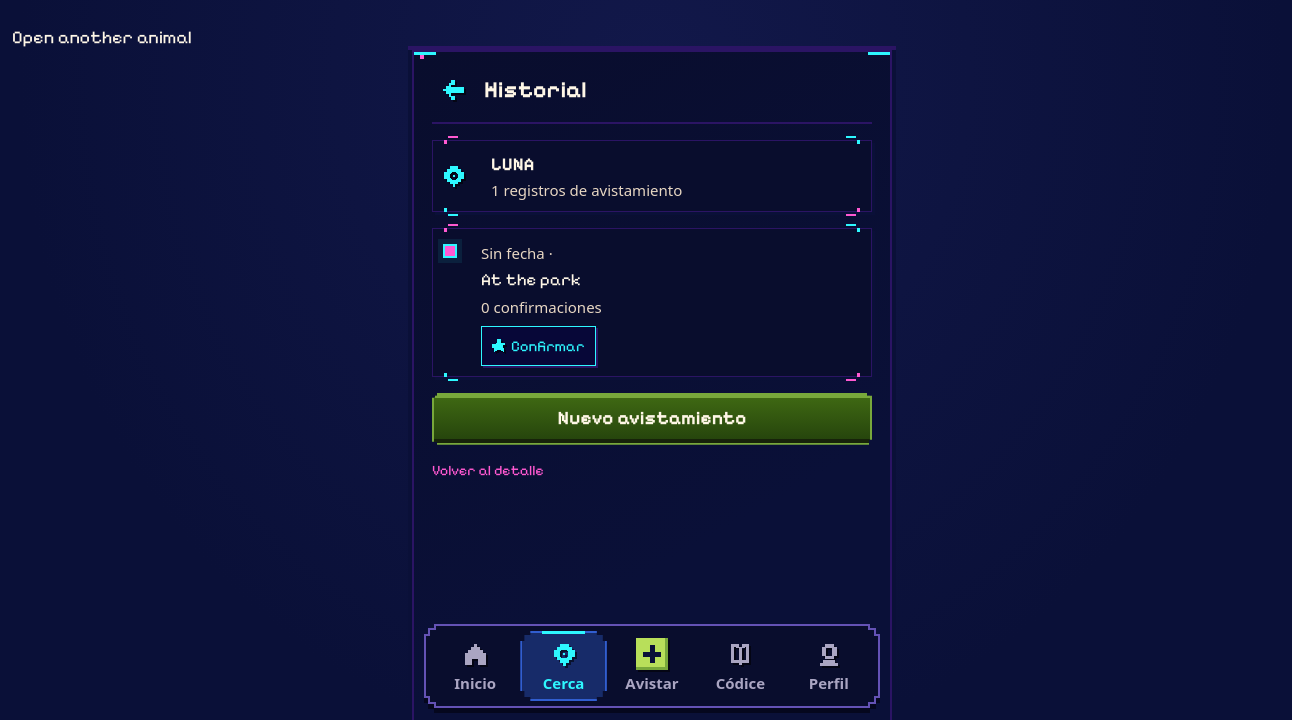
Scenario: animal history recovery › refreshes catalog confirmation counts and preserves a successful confirmation if profile refresh fails
Click the button "Confirmar" at (538, 346), box [481, 326, 596, 366]
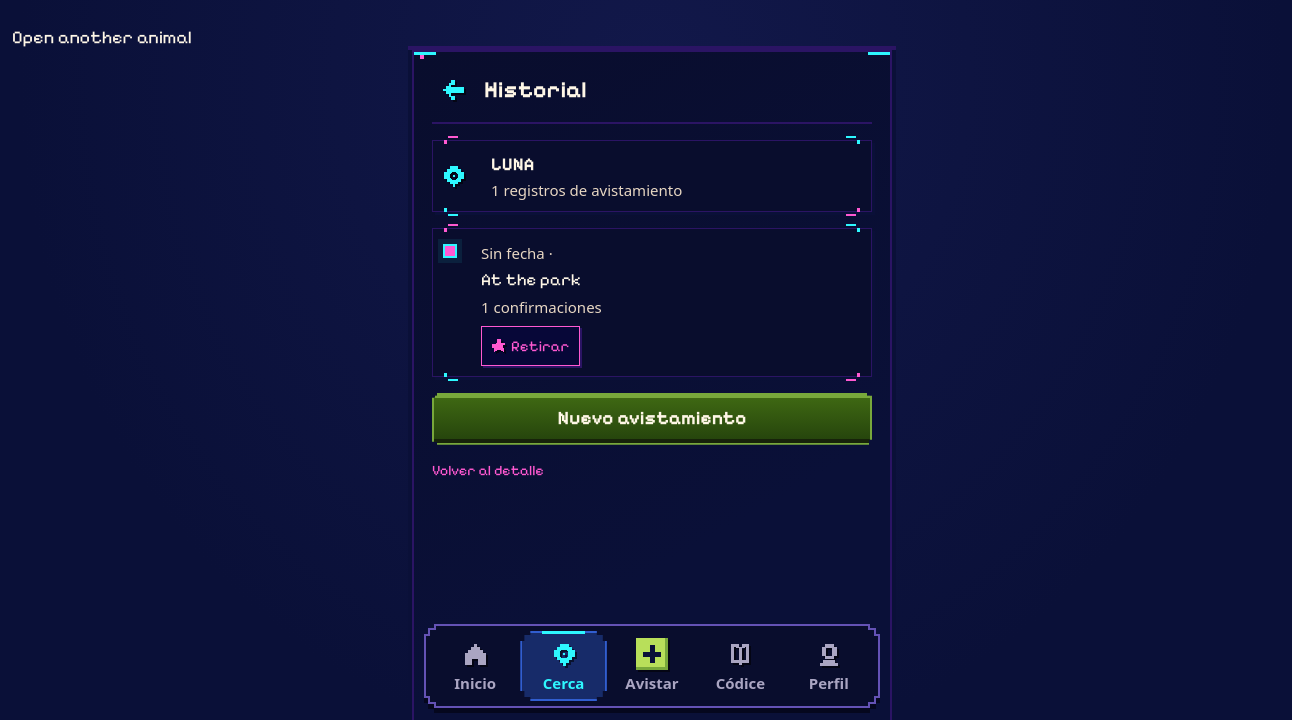
Now the button "Retirar" is shown, box [481, 326, 580, 366]
